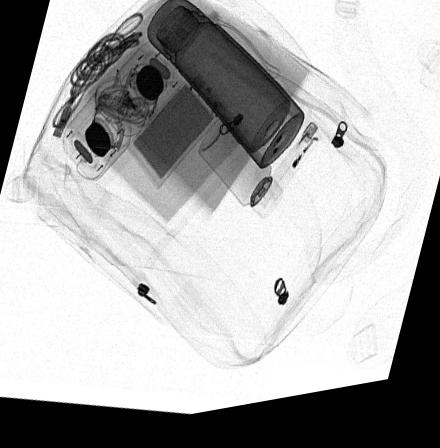Lighter: (254, 132, 323, 223)
Powerbank: (125, 76, 229, 195)
Sprayer: (198, 121, 283, 229)
